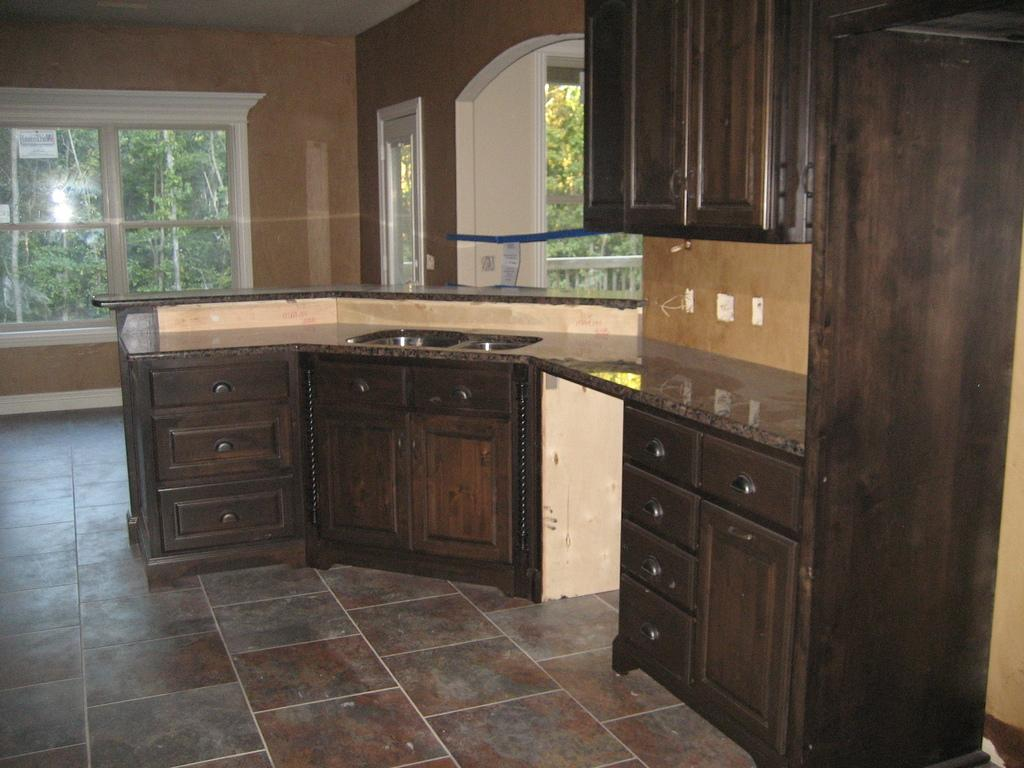cabinet_door: (699, 516, 796, 720), (414, 418, 504, 563), (702, 33, 768, 226), (636, 20, 694, 216), (324, 416, 406, 544), (584, 12, 634, 198), (766, 51, 814, 234), (162, 421, 304, 479), (154, 366, 298, 413), (172, 481, 302, 532), (714, 450, 816, 514), (416, 362, 518, 418), (318, 362, 412, 406), (626, 541, 702, 591), (630, 422, 696, 476), (634, 599, 696, 656), (627, 484, 692, 531)
handle: (446, 380, 480, 415), (671, 161, 692, 209), (726, 522, 756, 552), (644, 436, 674, 464), (642, 616, 668, 648), (641, 552, 669, 580), (206, 378, 240, 401), (732, 472, 758, 500), (351, 372, 376, 401), (646, 493, 670, 520), (212, 438, 236, 465), (215, 510, 239, 529)
